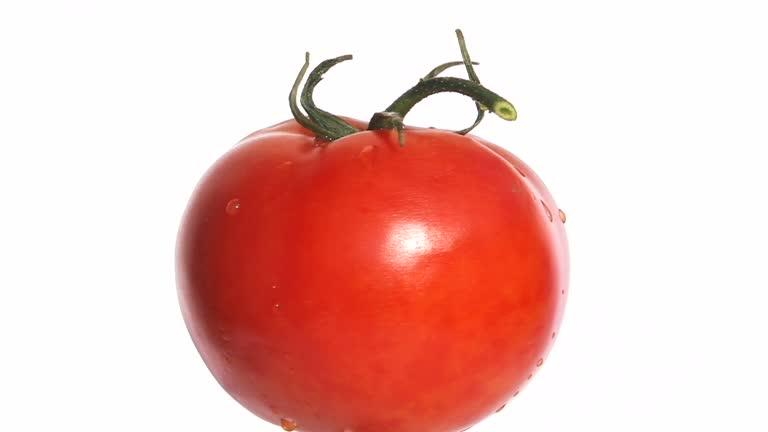Tomato: (169, 77, 568, 431)
